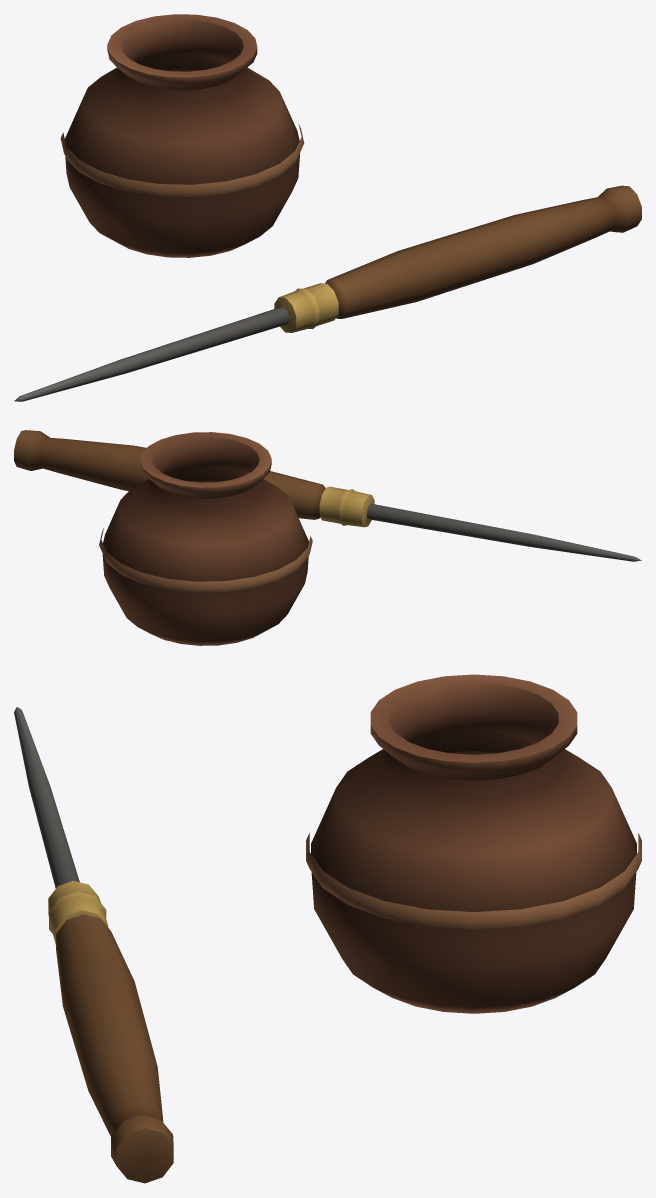
The model's file is ink-set.645477dd.glb.
3 renders of one model, top to bottom at view 1: azimuth 30°, elevation 25°; view 2: azimuth 150°, elevation 25°; view 3: azimuth 270°, elevation 25°, orthographic. The views are drawn at different scales.
Parts seen in each view (by area): view 1: ink_pot, stylus; view 2: ink_pot, stylus; view 3: ink_pot, stylus.
Boxes of the visible parts, left/top/right/bottom form: ink_pot: left=60, top=14, right=304, bottom=257; stylus: left=14, top=185, right=641, bottom=401; ink_pot: left=99, top=432, right=312, bottom=645; stylus: left=14, top=430, right=641, bottom=561; ink_pot: left=306, top=674, right=641, bottom=1013; stylus: left=14, top=707, right=173, bottom=1183.
Size of the model in its own units: 0.1688 by 0.0435 by 0.0992.
